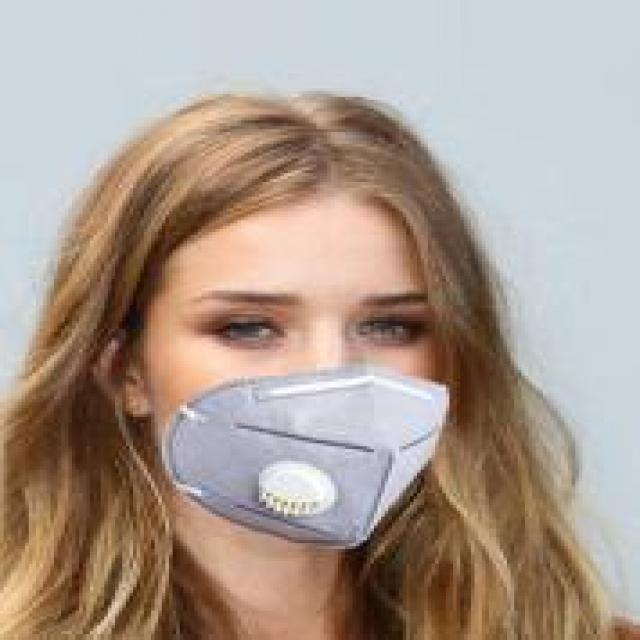mask: (75, 79, 500, 570)
